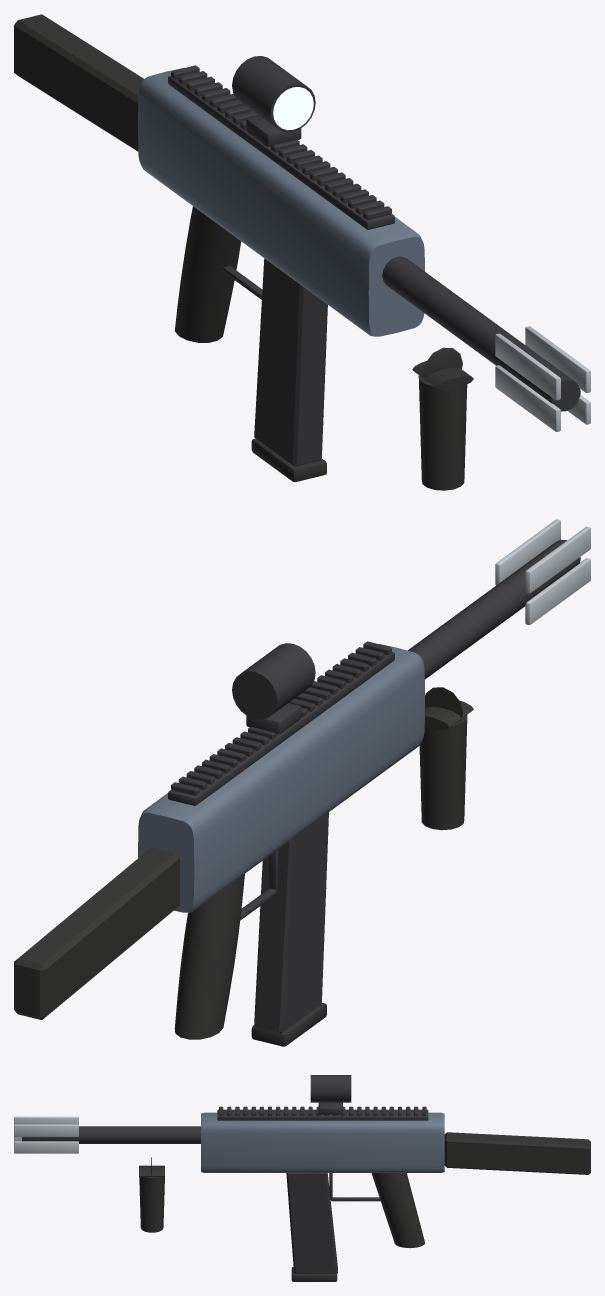
Rendered from boundgun.glb.
3 views of the same model, one above another, from view 1: azimuth 30°, elevation 25°; view 2: azimuth 150°, elevation 25°; view 3: azimuth 270°, elevation 25° (orthographic). The views are drawn at different scales.
Visible parts, largest first — view 1: Body; view 2: Body; view 3: Body.
Boxes of the visible parts, <box> form: Body: <box>14,14,590,490</box>; Body: <box>14,519,590,1046</box>; Body: <box>14,1075,590,1281</box>.
Size of the model in its own units: 0.044 by 0.274 by 0.71.
